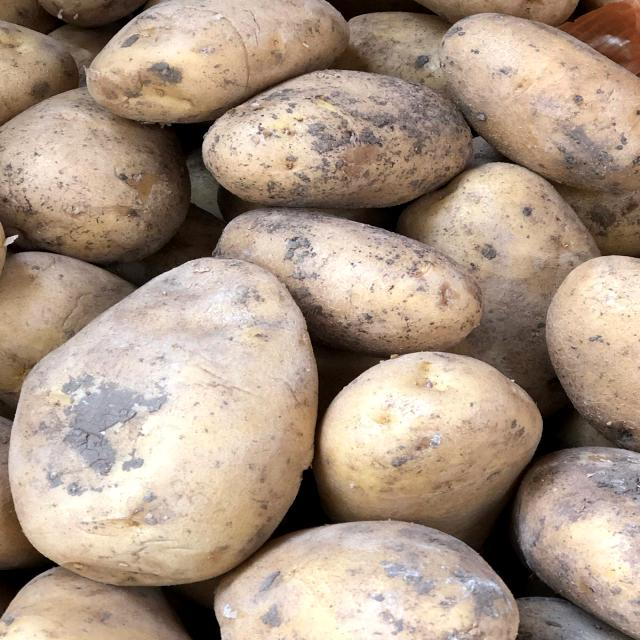potato: (8, 242, 331, 589), (201, 196, 495, 353), (197, 57, 479, 217), (420, 7, 640, 199), (79, 0, 357, 127)
